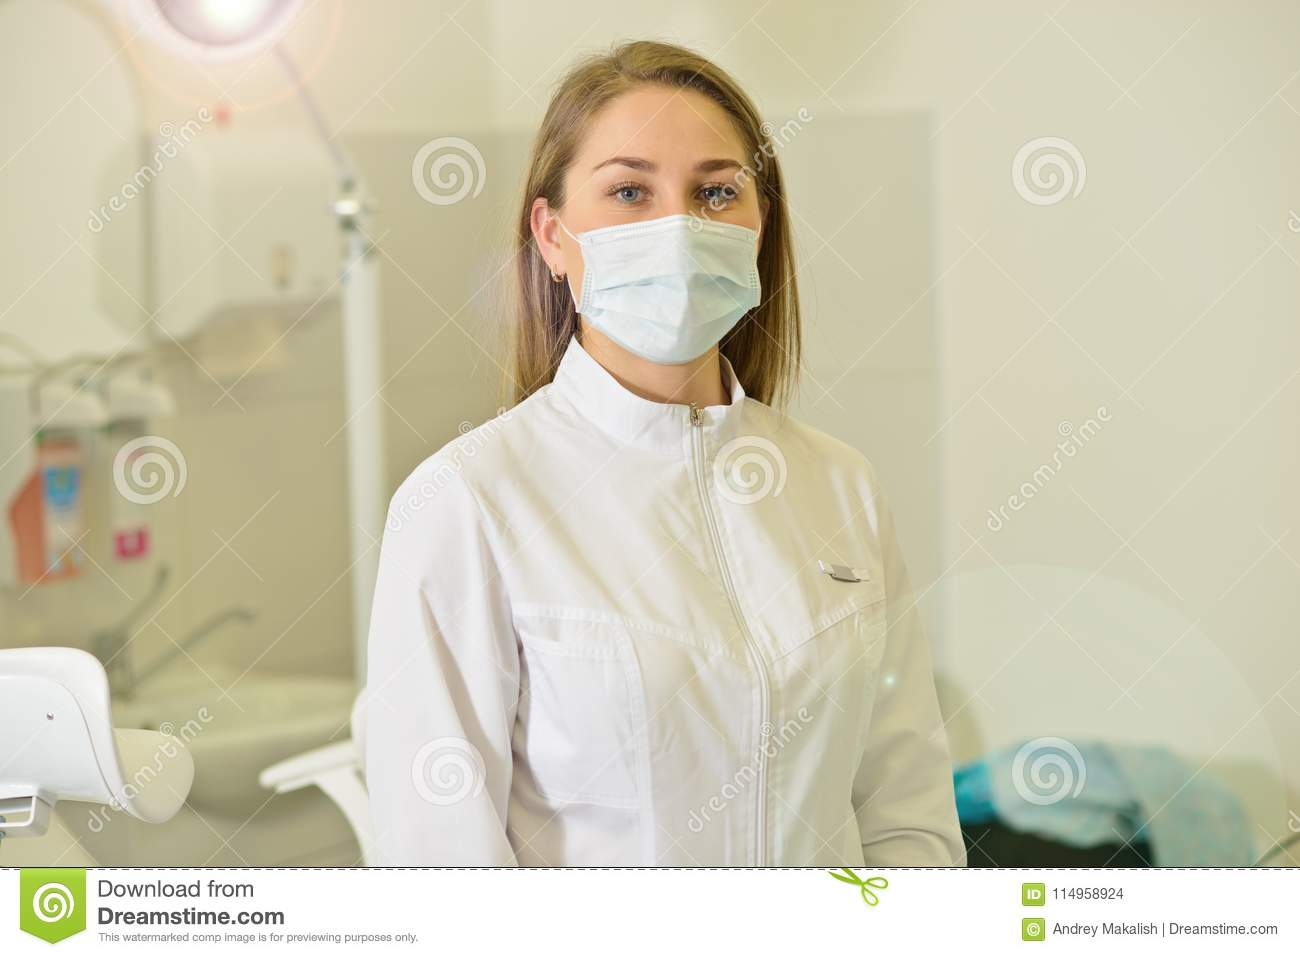mask: (563, 211, 783, 367)
